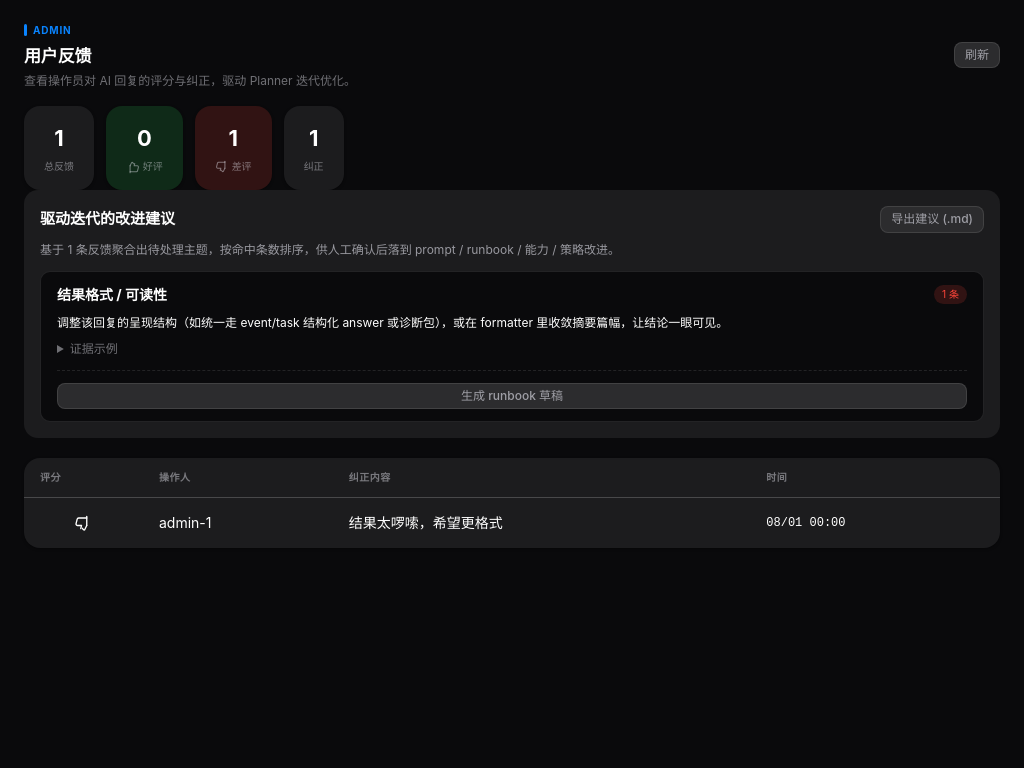
Test: FeedbackView › non-runbookable topic shows missing reason and no confirm button
Click the button with test id "feedback-draft-runbook" at (512, 396), box [57,383,967,409]
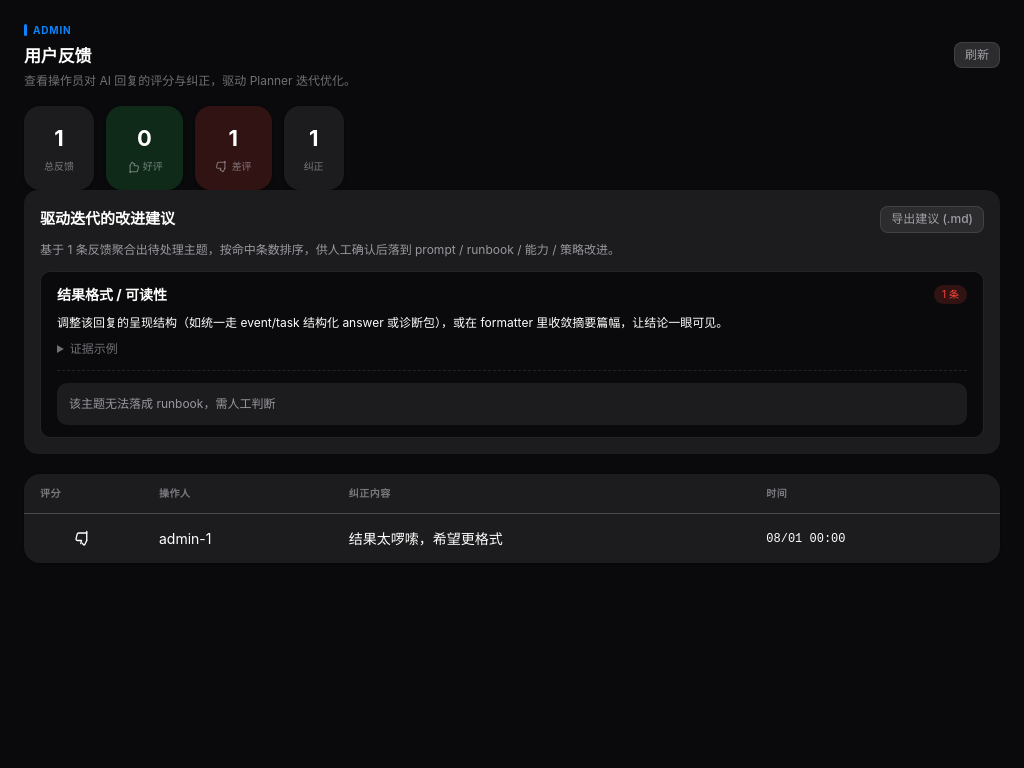
Expected: the element with test id "feedback-draft-preview" is shown, [57,383,967,425]
Expected: the element with test id "feedback-draft-preview" shows "无法落成 runbook", [69,396,275,411]
